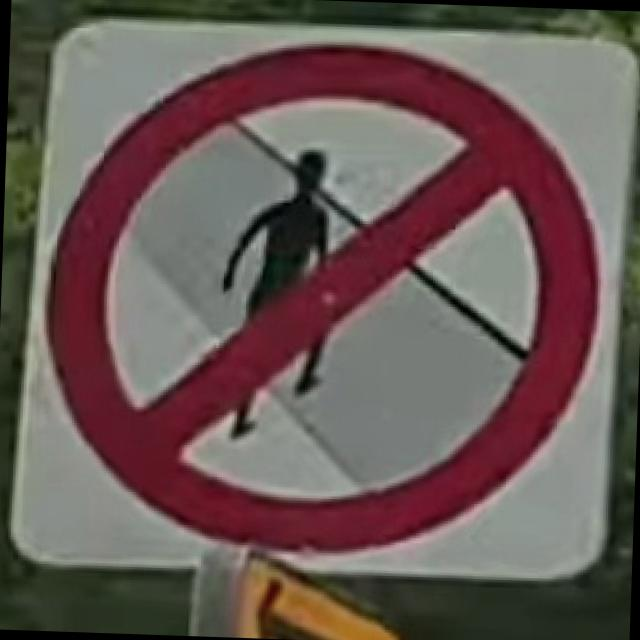nojaywalking_sign: (3, 10, 639, 591)
